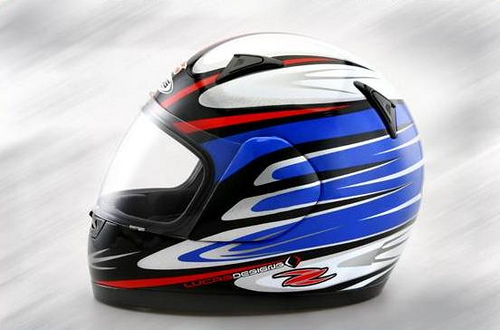helmet: (103, 48, 411, 315)
